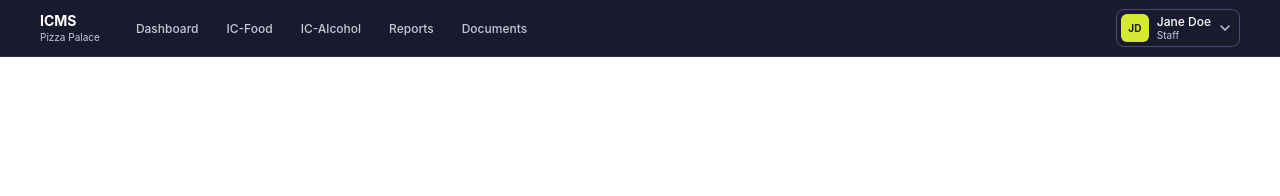
it: AppHeader › dropdown › opens dropdown when user chip is clicked
Click the element with class "user-chip". click: {"x": 1178, "y": 28}
box: top-left (1116, 9), bottom-right (1240, 47)
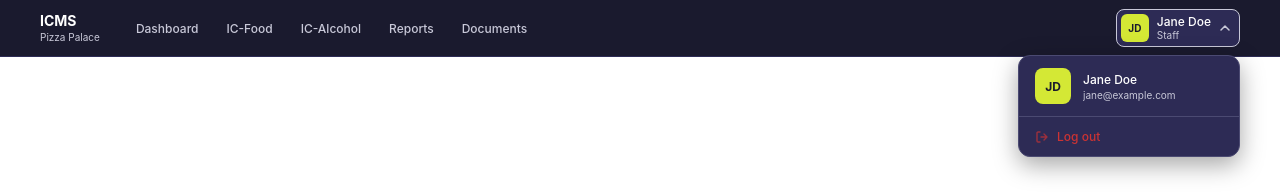
Expected: the element with class "user-dropdown" is shown, top-left (1018, 55), bottom-right (1240, 157)
